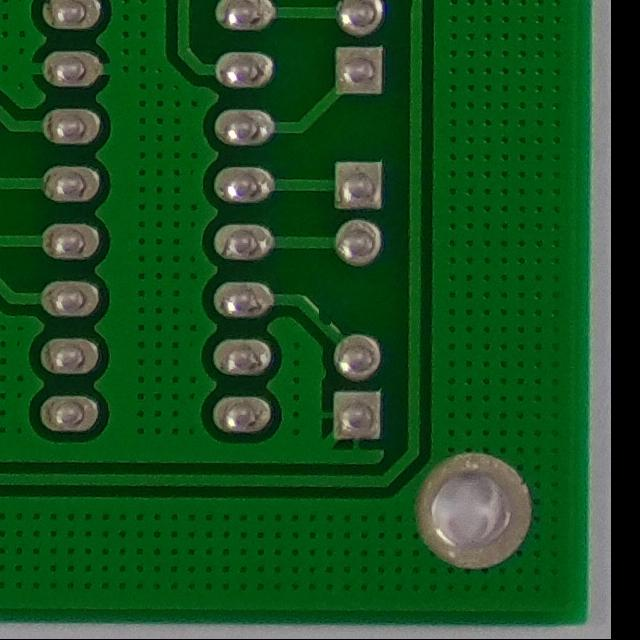mouse_bite: (303, 298, 337, 342)
